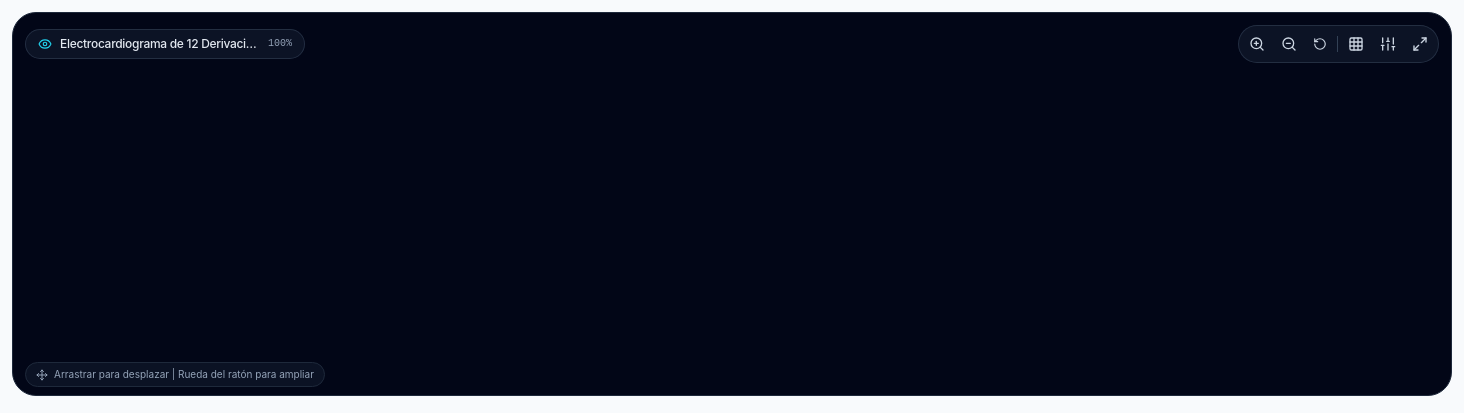
Scenario: Suite de Pruebas: Visor Diagnóstico de Paraclínicos (ClinicalStudyViewer - Ateneo+) › conmuta la rejilla milimétrica electrocardiográfica
The width and height of the screenshot is (1464, 413).
Click the button named "rejilla ecg". click: (1356,44)
box: [1342,30,1370,58]
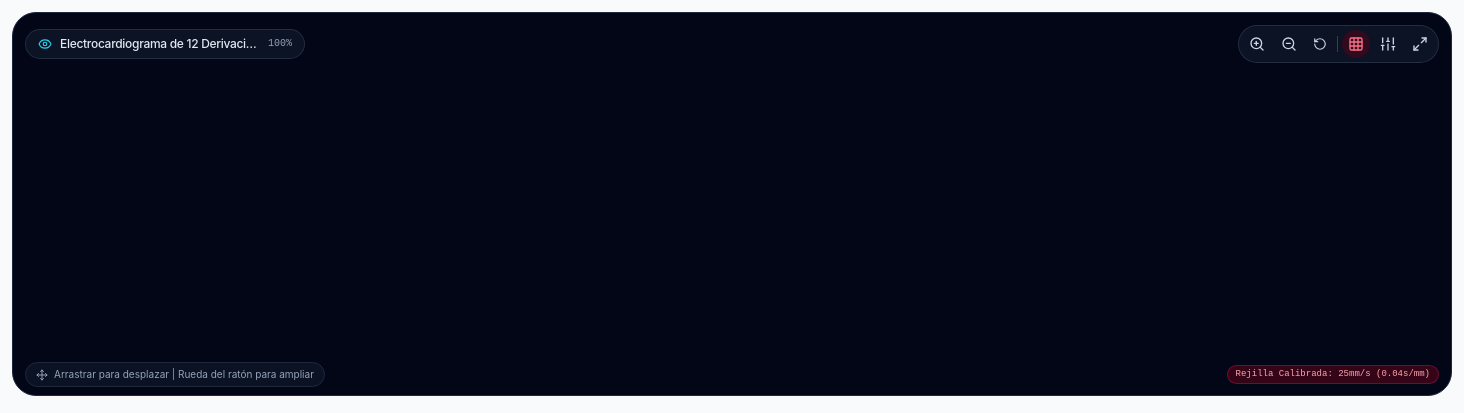
Expected: the text "Rejilla Calibrada: 25mm/s (0.04s/mm)" is shown, [1227,365,1439,384]
